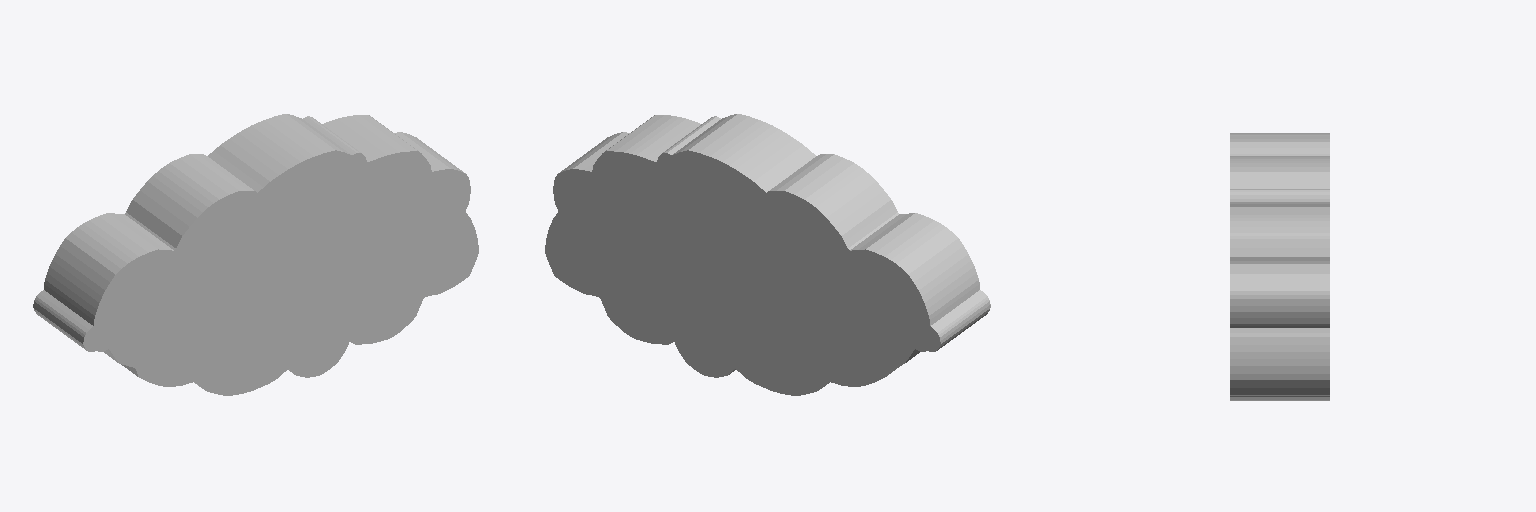
Rendered from cloud.obj.
3 renders of one model, left to right at view 1: azimuth 30°, elevation 25°; view 2: azimuth 150°, elevation 25°; view 3: azimuth 270°, elevation 25°, orthographic.
Parts seen in each view (by area): view 1: obj_0; view 2: obj_0; view 3: obj_0.
Part boxes in pixels (left/top/right/bottom): obj_0: left=33, top=114, right=478, bottom=395; obj_0: left=545, top=114, right=990, bottom=395; obj_0: left=1230, top=133, right=1329, bottom=400.
Bounding box in the file's own units: 34.47 × 18.46 × 7.56.